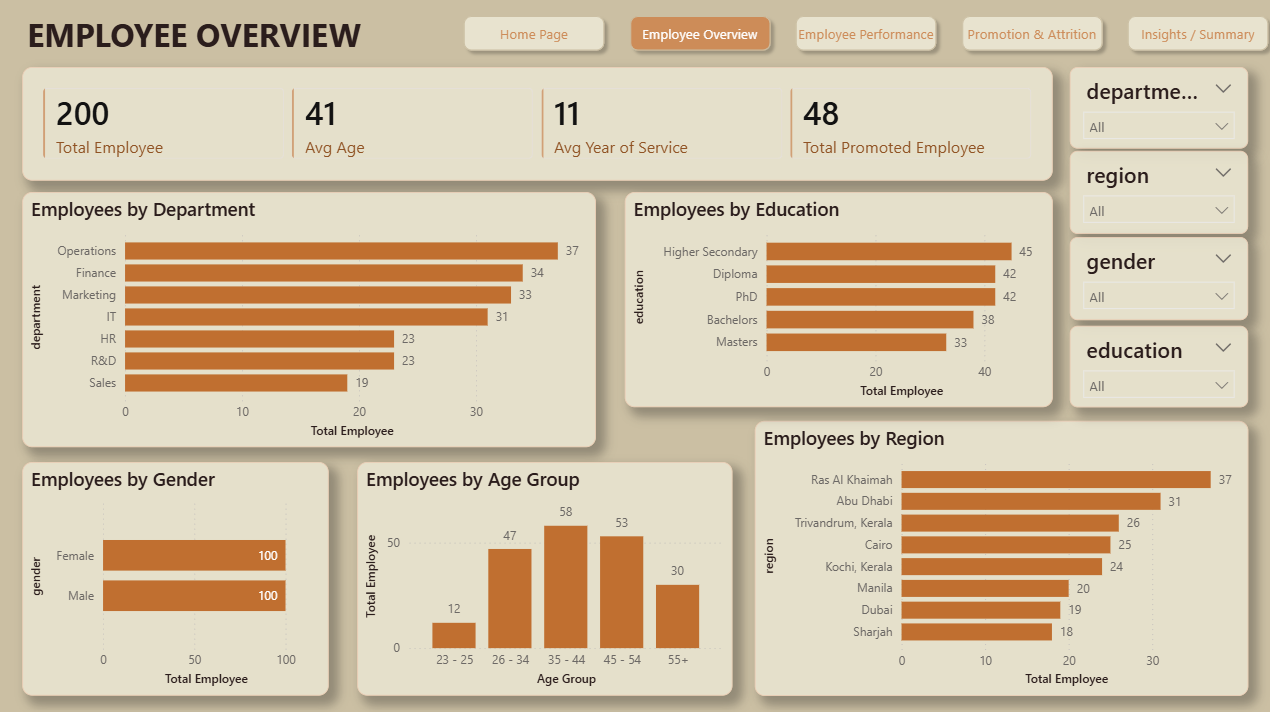

The page's visual inventory and layout, read from the dashboard file:
{"tool":"powerbi","page":{"name":"Employee Overview","canvas":[1280,720],"ordinal":1},"visuals":[{"type":"cardVisual","fields":{"Data":["CPM_Properties_Performance_n_Promotion (1).Total Employee","CPM_Properties_Performance_n_Promotion (1).Avg Age","CPM_Properties_Performance_n_Promotion (1).Avg Year of Service","CPM_Properties_Performance_n_Promotion (1).Total Promoted Employee"]},"box":[26.7,70,1030,113.3],"z":0},{"type":"clusteredBarChart","title":"Employees by Department","fields":{"Category":["CPM_Properties_Performance_n_Promotion (1).department"],"Y":["CPM_Properties_Performance_n_Promotion (1).Total Employee"]},"box":[26.7,195,573.3,255],"z":1000},{"type":"clusteredBarChart","title":"Employees by Region","fields":{"Category":["CPM_Properties_Performance_n_Promotion (1).region"],"Y":["CPM_Properties_Performance_n_Promotion (1).Total Employee"]},"box":[758.3,423.3,493.3,275],"z":2000},{"type":"clusteredBarChart","title":"Employees by Gender","fields":{"Category":["CPM_Properties_Performance_n_Promotion (1).gender"],"Y":["CPM_Properties_Performance_n_Promotion (1).Total Employee"]},"box":[26.7,465,306.7,233.3],"z":3000},{"type":"clusteredBarChart","title":"Employees by Education","fields":{"Category":["CPM_Properties_Performance_n_Promotion (1).education"],"Y":["CPM_Properties_Performance_n_Promotion (1).Total Employee"]},"box":[628.3,195,428.3,215],"z":4000},{"type":"clusteredColumnChart","title":"Employees by Age Group","fields":{"Category":["CPM_Properties_Performance_n_Promotion (1).Age Group"],"Y":["CPM_Properties_Performance_n_Promotion (1).Total Employee"]},"box":[361.7,465,375,233.3],"z":5000},{"type":"textbox","box":[26.7,11.7,416.7,58.3],"z":6000},{"type":"slicer","fields":{"Values":["CPM_Properties_Performance_n_Promotion (1).department"]},"box":[1073.3,70,178.3,81.7],"z":7000},{"type":"slicer","fields":{"Values":["CPM_Properties_Performance_n_Promotion (1).region"]},"box":[1073.3,153.3,178.3,83.3],"z":8000},{"type":"slicer","fields":{"Values":["CPM_Properties_Performance_n_Promotion (1).gender"]},"box":[1073.3,240,178.3,83.3],"z":9000},{"type":"slicer","fields":{"Values":["CPM_Properties_Performance_n_Promotion (1).education"]},"box":[1073.3,328.3,178.3,81.7],"z":10000},{"type":"pageNavigator","box":[460,11.7,820,50],"z":10001}]}

Visuals, with their boxes in screenshot pixels (x1, y1, x2, y2), scaled from the page's 1280x720 canvas onto the 1270x712 screenshot:
cardVisual - CPM_Properties_Performance_n_Promotion (1).Total Employee x CPM_Properties_Performance_n_Promotion (1).Avg Age: bbox(26, 69, 1048, 181)
"Employees by Department" clusteredBarChart: bbox(26, 193, 595, 445)
"Employees by Region" clusteredBarChart: bbox(752, 419, 1242, 691)
"Employees by Gender" clusteredBarChart: bbox(26, 460, 331, 691)
"Employees by Education" clusteredBarChart: bbox(623, 193, 1048, 405)
"Employees by Age Group" clusteredColumnChart: bbox(359, 460, 731, 691)
textbox: bbox(26, 12, 440, 69)
slicer - CPM_Properties_Performance_n_Promotion (1).department: bbox(1065, 69, 1242, 150)
slicer - CPM_Properties_Performance_n_Promotion (1).region: bbox(1065, 152, 1242, 234)
slicer - CPM_Properties_Performance_n_Promotion (1).gender: bbox(1065, 237, 1242, 320)
slicer - CPM_Properties_Performance_n_Promotion (1).education: bbox(1065, 325, 1242, 405)
pageNavigator: bbox(456, 12, 1269, 61)
